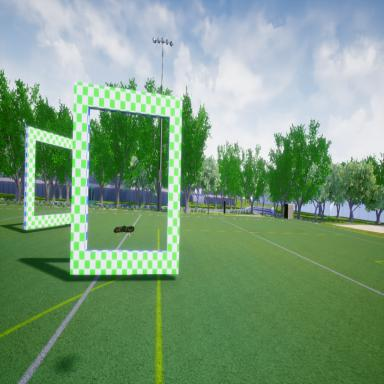gate: (69, 76, 185, 288), (21, 126, 72, 237)
